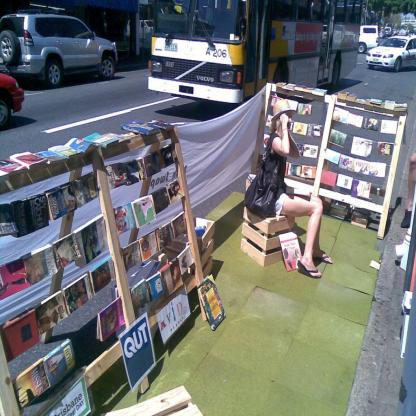book: (0, 119, 226, 412), (245, 80, 408, 232), (278, 228, 302, 272)
